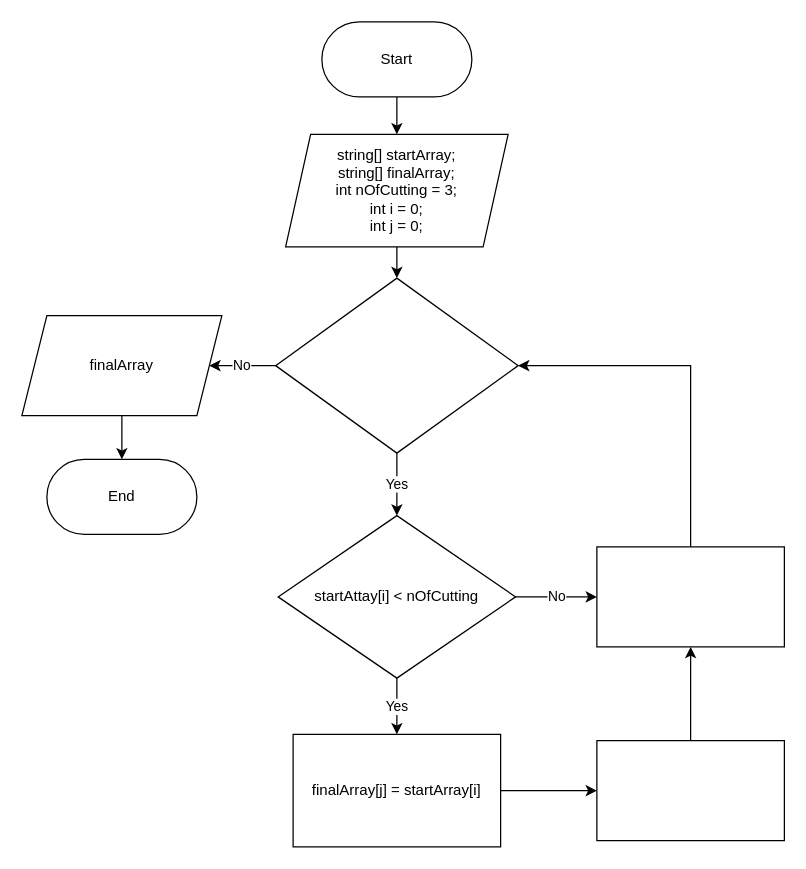
The diagram is 806 pixels wide and 869 high, and some of its shapes have lost their labels. The shapes that lost their labels are listed below. From the top down, each one's centre as x and y in pixels, then its label:
At point (396, 365): "i < startArray.Length".
At point (690, 596): "i++".
At point (690, 790): "j++".
